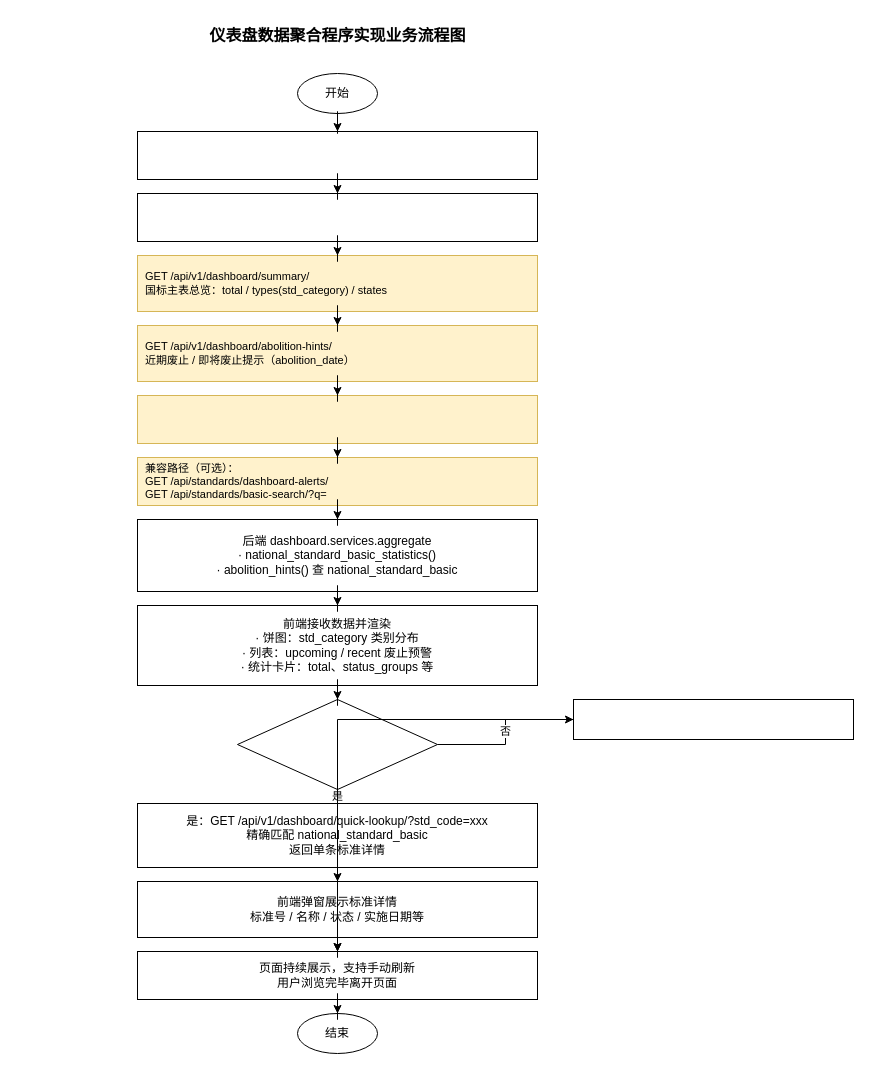
Image size: 871x1071. Some labels were removed from this diagram. The shapes that lost their labels are listed below. From the top down, each one's centre as x and y in pixels, then its label:
pixel 337 155: 用户访问 /dashboard 页面
pixel 337 217: 前端并行发起 API 请求 （Promise.all 或分别调用）
pixel 337 419: GET /api/v1/standards/statistics/ （或与 summary 同源的标准库统计）
pixel 713 719: 否：跳过快捷查询
pixel 337 744: 用户输入 标准号查询？
